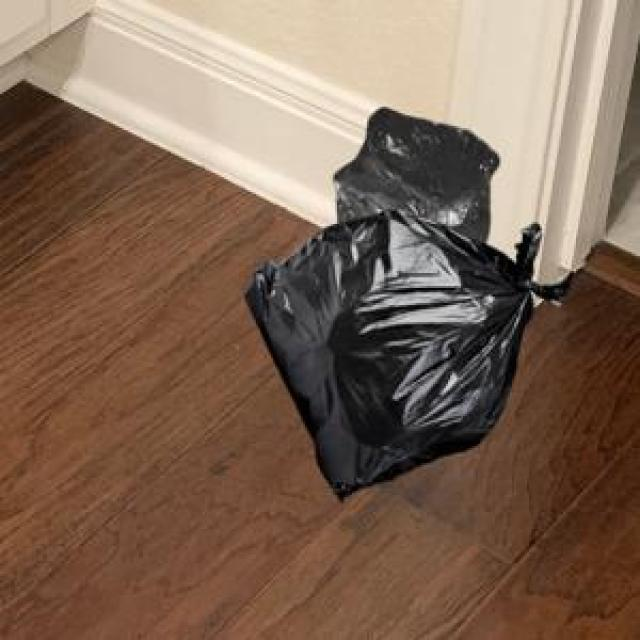miscellaneous trash: (241, 207, 570, 497)
